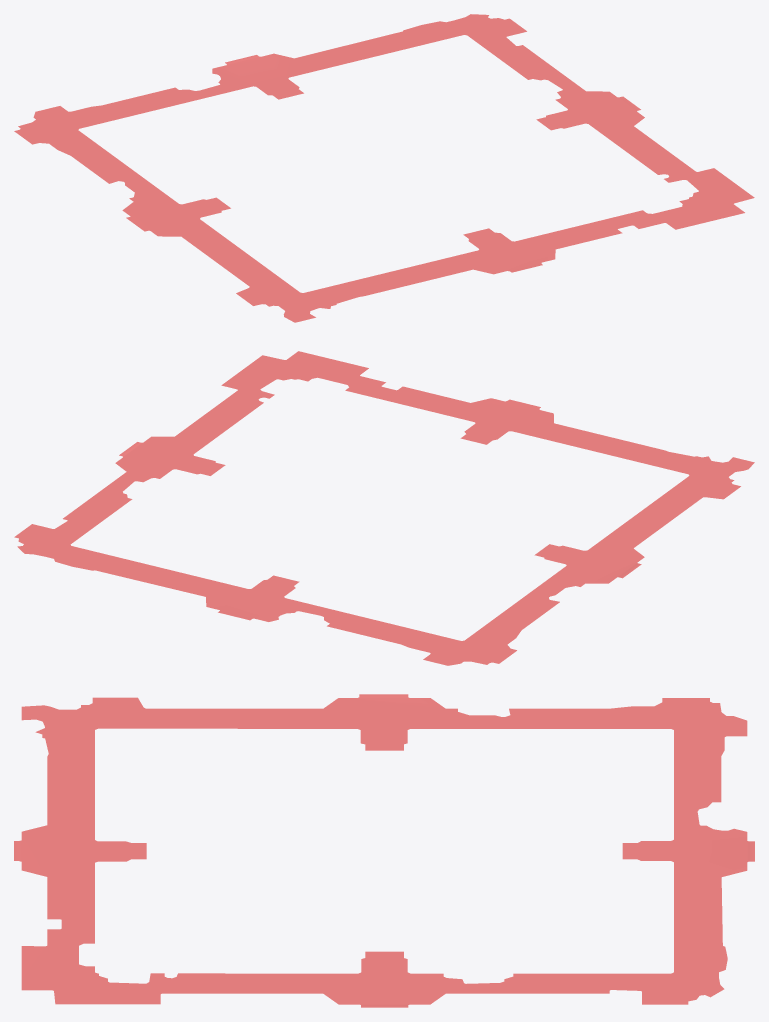
The model's file is Prohibited_RESERCH_CENTRE.fbx.
The picture shows the model from 3 angles, top to bottom: view 1: azimuth 30°, elevation 25°; view 2: azimuth 150°, elevation 25°; view 3: azimuth 270°, elevation 25°; orthographic projection. The views are drawn at different scales.
Visible parts, largest first — view 1: Laboratory; view 2: Laboratory; view 3: Laboratory.
Part boxes in pixels (<box>): Laboratory: <box>14,14,754,322</box>; Laboratory: <box>14,351,754,665</box>; Laboratory: <box>14,694,754,1007</box>.
Bounding box in the file's own units: 57.58 × 0.0351 × 57.6.
